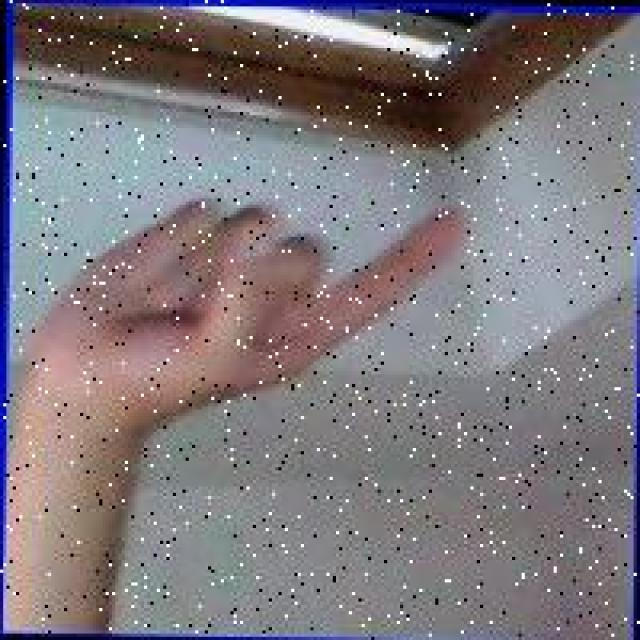Z: (36, 187, 470, 418)
